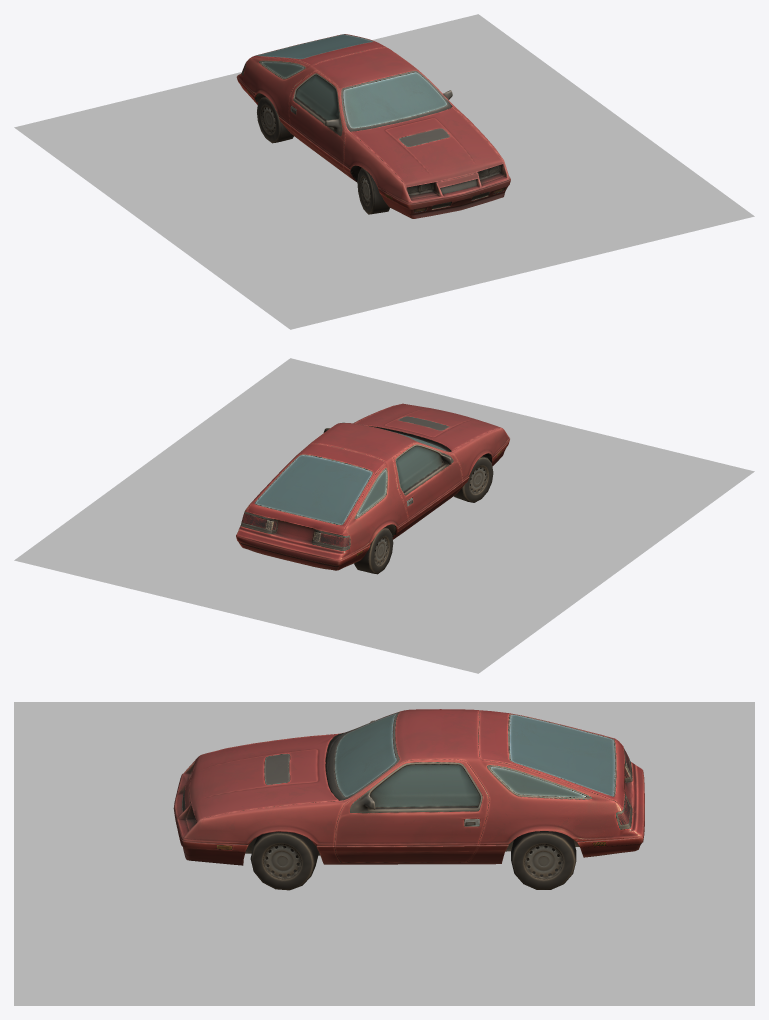
The model's file is nyantona.FBX.
3 views of the same model, one above another, from view 1: azimuth 30°, elevation 25°; view 2: azimuth 150°, elevation 25°; view 3: azimuth 270°, elevation 25° (orthographic). The views are drawn at different scales.
Visible parts, largest first — view 1: Plane001, daytona; view 2: Plane001, daytona; view 3: Plane001, daytona.
Part boxes in pixels (x1,y1,x2,y2): Plane001: (14, 14, 754, 329); daytona: (236, 34, 510, 218); Plane001: (14, 358, 754, 673); daytona: (236, 403, 509, 574); Plane001: (14, 702, 754, 1005); daytona: (173, 709, 644, 890).
Size of the model in its own units: 893 by 170 by 921.
